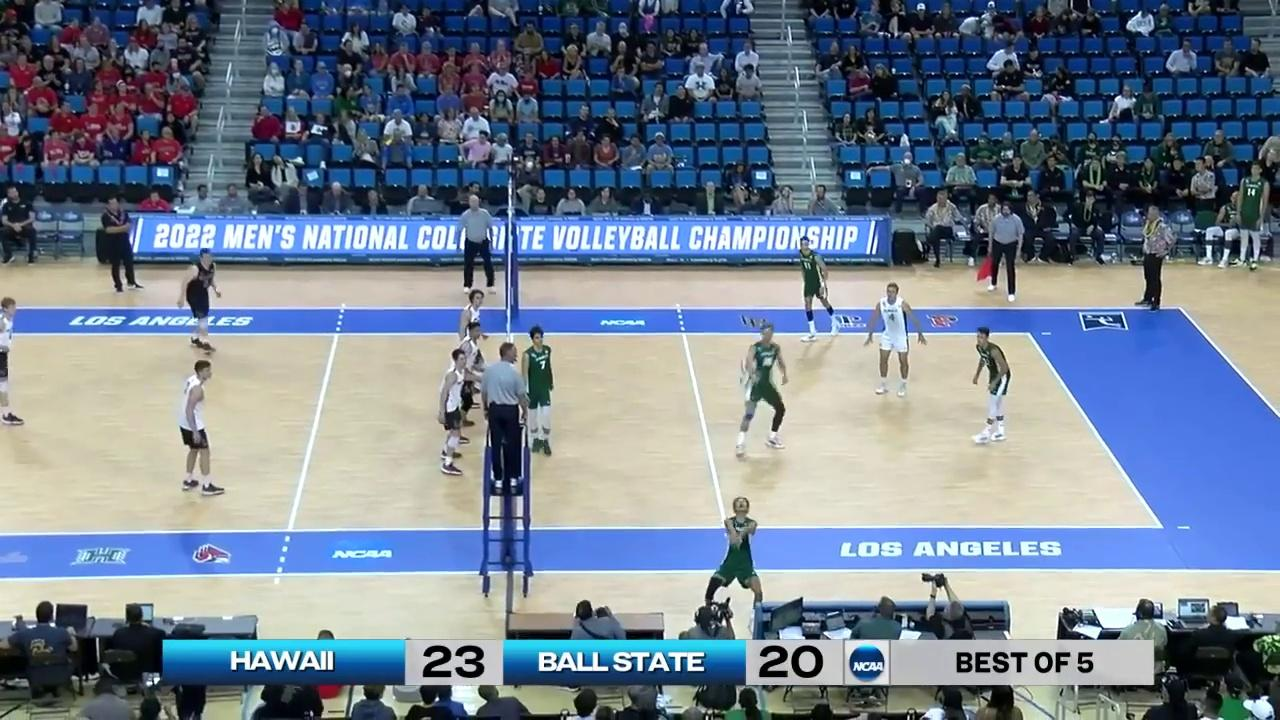player: (704, 495, 766, 620), (733, 326, 789, 457), (181, 359, 224, 496), (870, 283, 917, 398), (794, 236, 845, 340), (525, 328, 563, 464), (969, 329, 1012, 445), (178, 246, 220, 352), (447, 322, 484, 442), (435, 350, 470, 475), (454, 289, 486, 408), (0, 295, 20, 425)
refree: (485, 343, 526, 500), (983, 202, 1023, 297), (458, 194, 493, 298)
